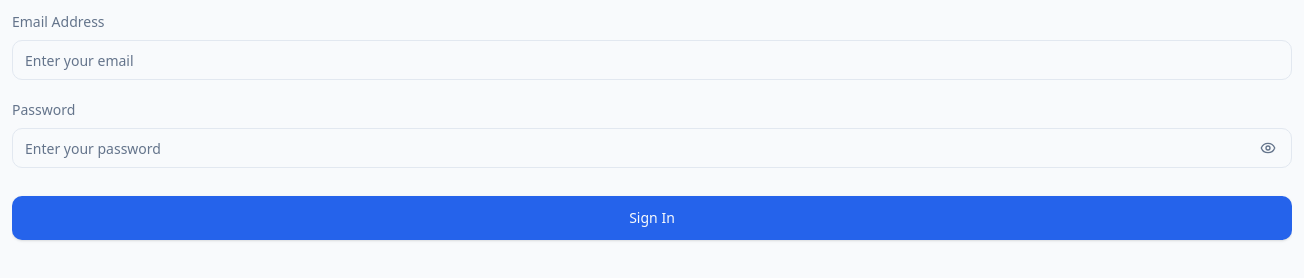
LoginForm › clears validation errors automatically when inputs become valid
This screenshot has width=1304, height=278.
// Type invalid email to trigger error
Step 1. Type "invalid-email" into the field with placeholder "Enter your email" → (652, 60), box [12,40,1292,80]
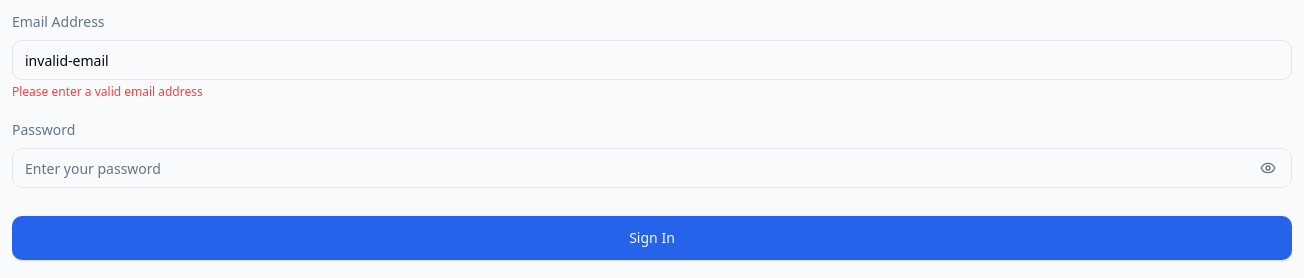
Result: the text "Please enter a valid email address" is shown at [12,83,203,100]
// Correct the email to make it valid
Step 2. Replace the text in the field with placeholder "Enter your email" with "jane.doe@example.com" → (652, 60), box [12,40,1292,80]
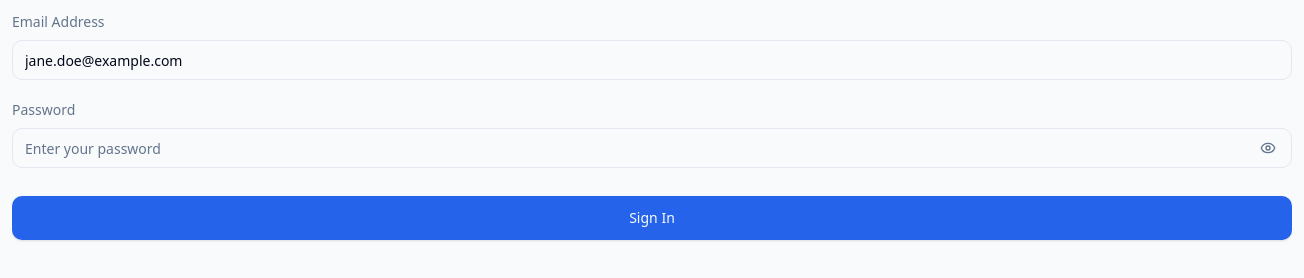
Result: the text "Please enter a valid email address" is gone
// Type invalid password to trigger error
Step 3. Type "123" into the password field with placeholder "Enter your password" → (652, 148), box [12,128,1292,168]
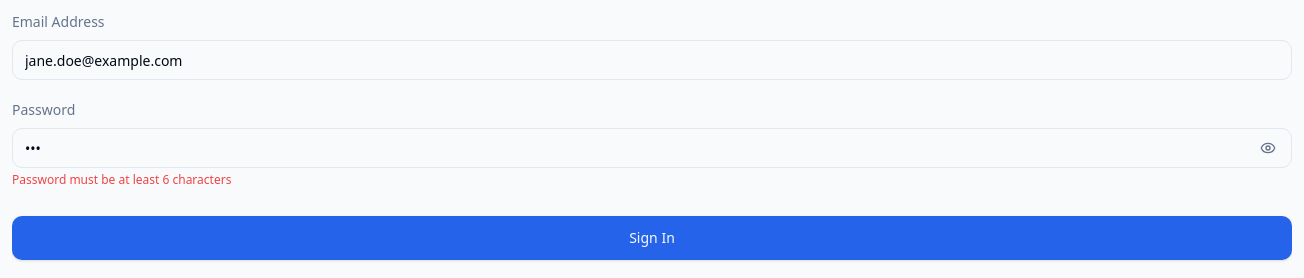
Result: the text "Password must be at least 6 characters" is shown at [12,171,231,188]
// Correct the password to make it valid
Step 4. Type "123456" into the password field with placeholder "Enter your password" → (652, 148), box [12,128,1292,168]
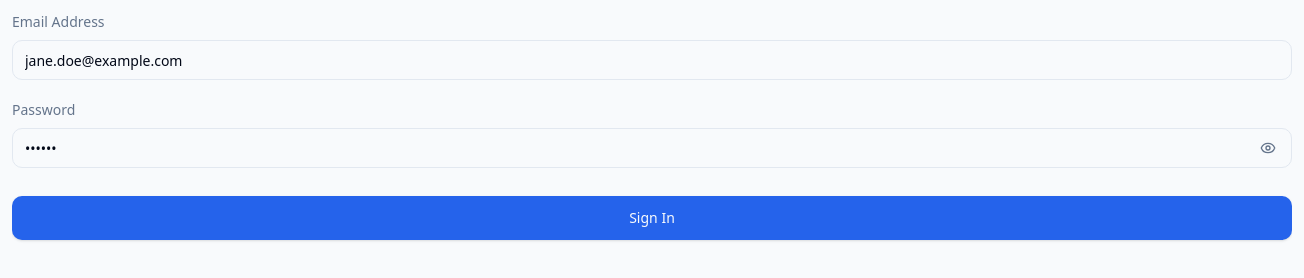
Result: the text "Password must be at least 6 characters" is gone
